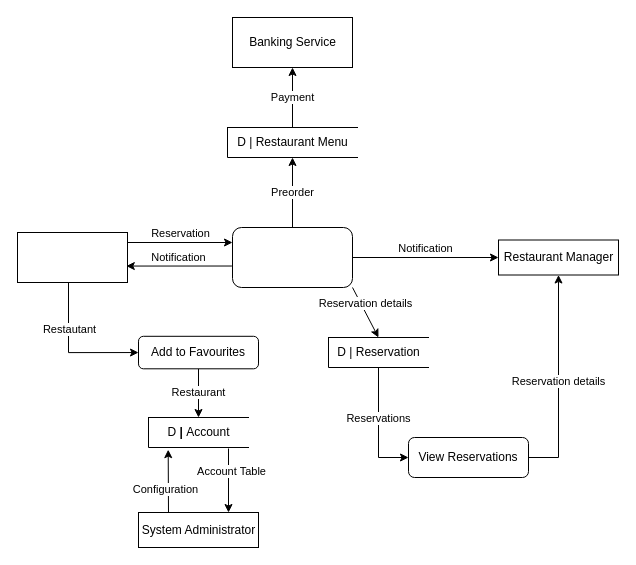
Image size: 636x565. Some labels were removed from this diagram. Here are the shapes that lost their labels. From the top down, the centre of each, then its label:
At point (72, 257): "Client".
At point (292, 257): "Reserve Table".
